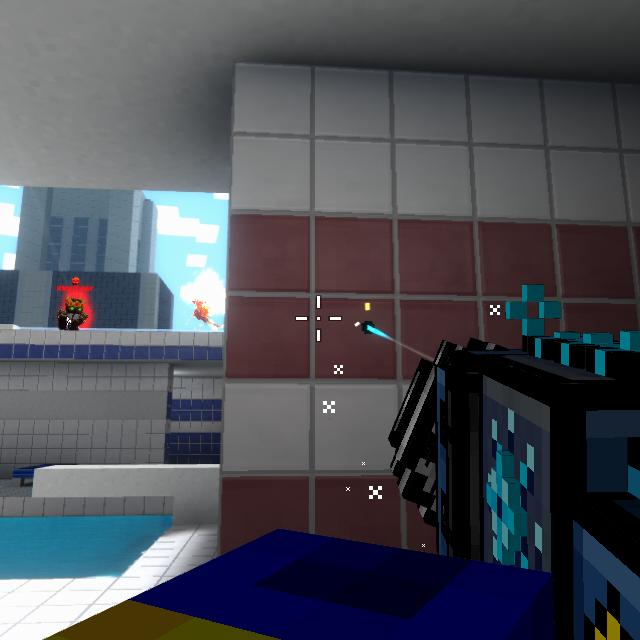Enemy: (58, 297, 89, 330)
